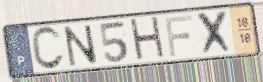5: (98, 19, 130, 64)
C: (30, 25, 67, 73)
F: (163, 14, 195, 59)
H: (128, 15, 168, 64)
N: (61, 24, 100, 68)
X: (196, 8, 235, 58)
